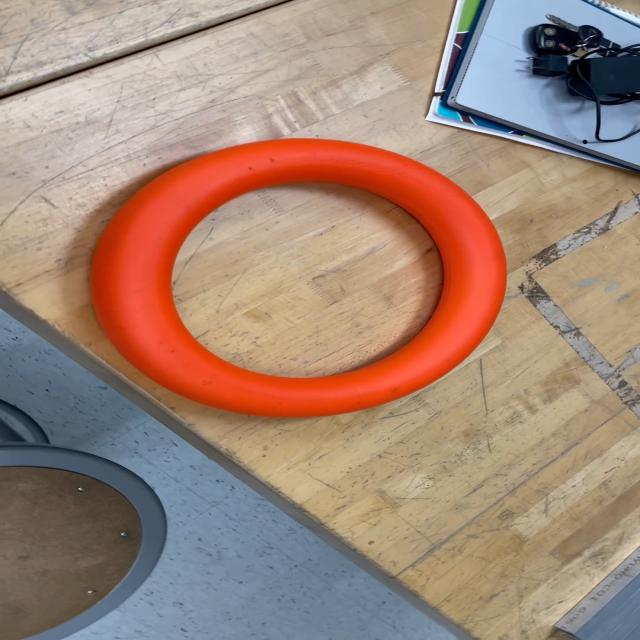note: (89, 137, 508, 418)
